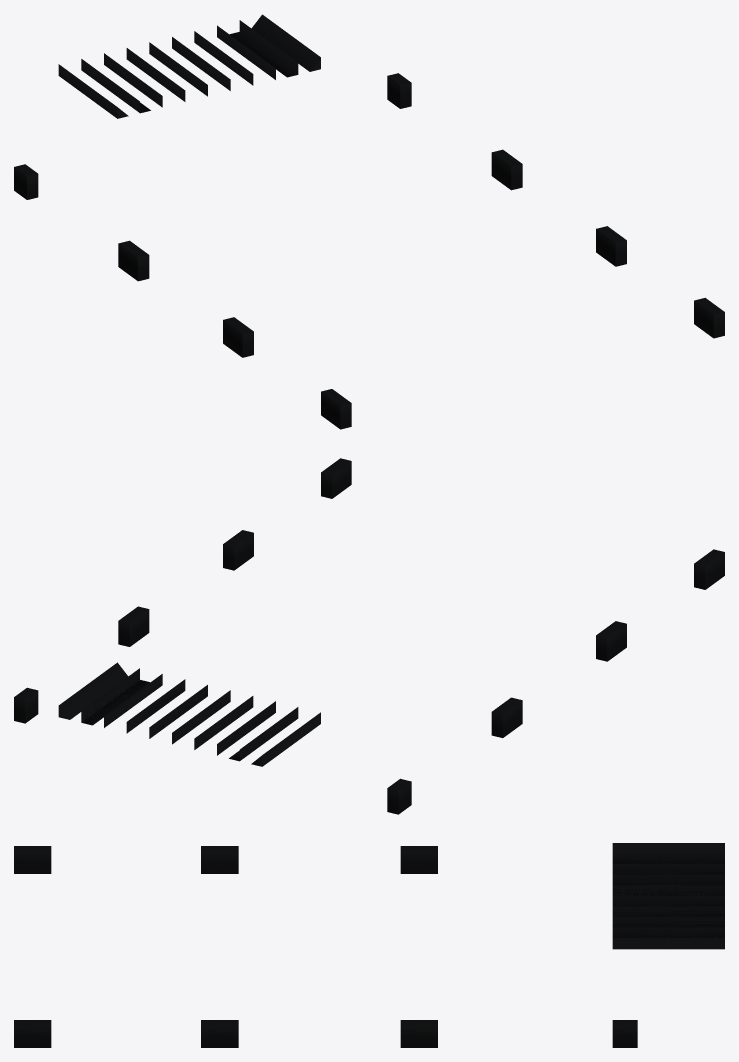
The picture shows the model from 3 angles, top to bottom: view 1: azimuth 30°, elevation 25°; view 2: azimuth 150°, elevation 25°; view 3: azimuth 270°, elevation 25°; orthographic projection. The views are drawn at different scales.
Bounding box in the file's own units: 2.72 × 0.48 × 4.56.
Materials: 1 (1 with a texture image).
